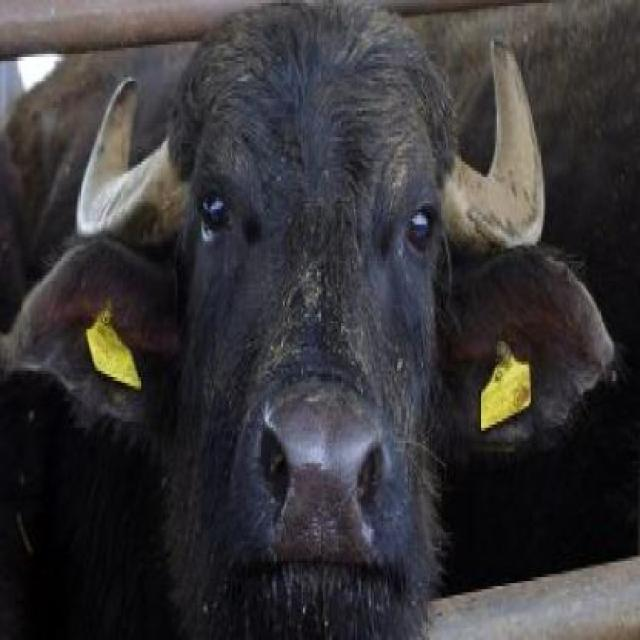buffalo: (73, 28, 529, 604)
